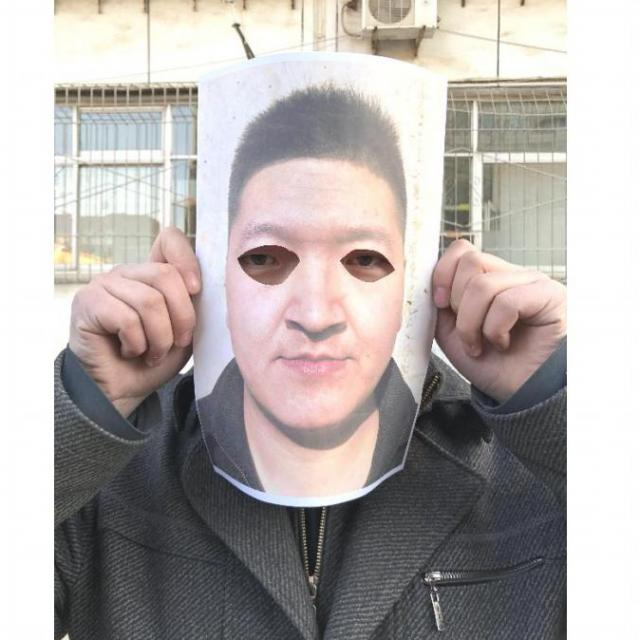mask: (187, 50, 451, 516)
